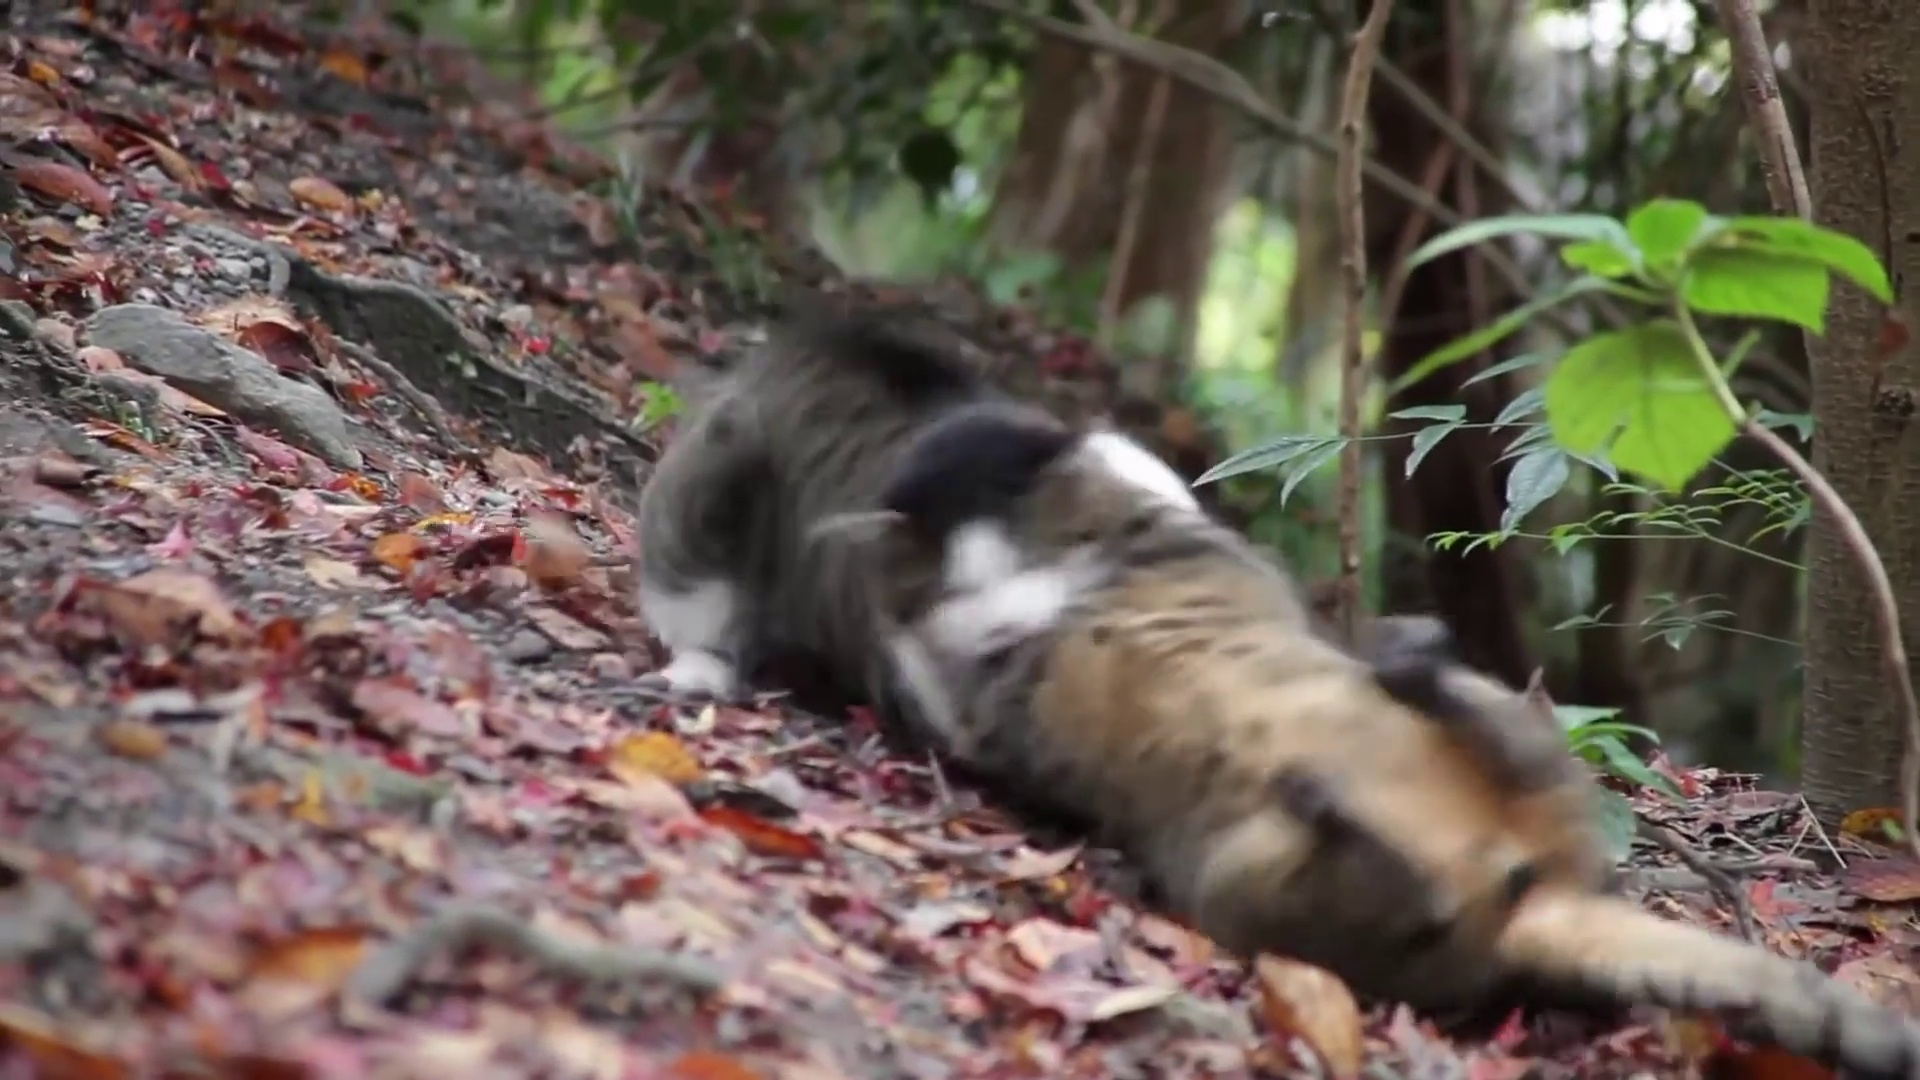black-white: (633, 338, 1155, 702)
pure black: (996, 517, 1920, 1071)
